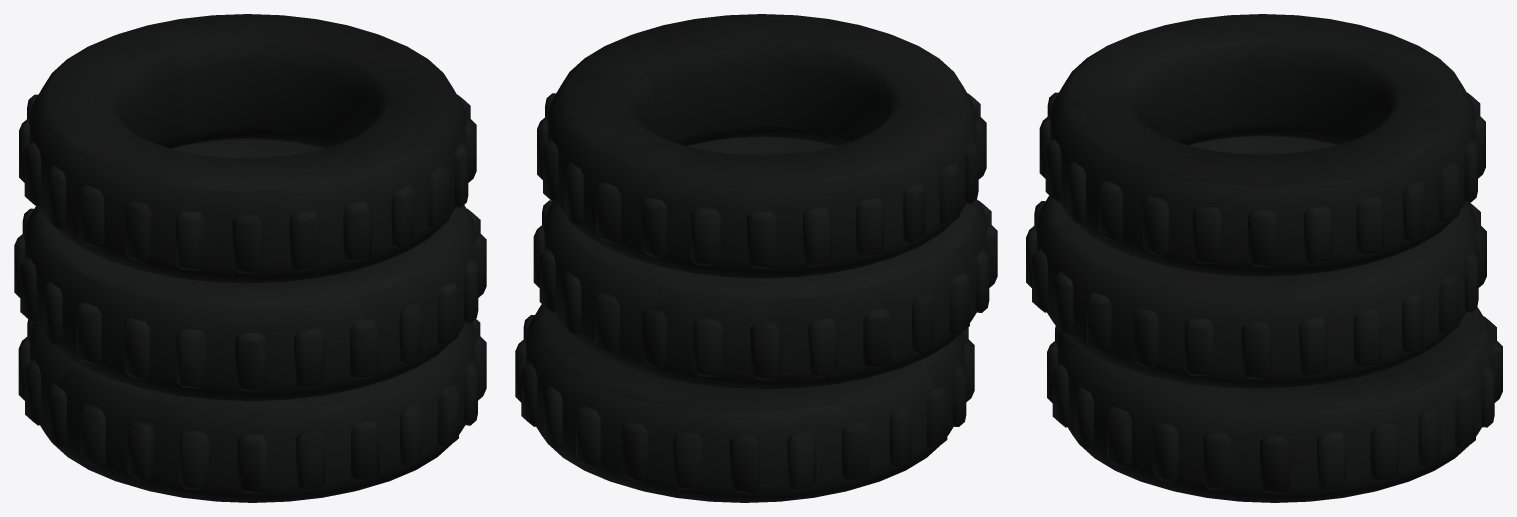
Rendered from tires-41.glb.
3 views of the same model, side by side, from view 1: azimuth 30°, elevation 25°; view 2: azimuth 150°, elevation 25°; view 3: azimuth 270°, elevation 25° (orthographic). The views are drawn at different scales.
Visible parts, largest first — view 1: tires-41; view 2: tires-41; view 3: tires-41.
Boxes of the visible parts, bbox=[...] form: tires-41: bbox=[14, 14, 486, 502]; tires-41: bbox=[515, 14, 997, 502]; tires-41: bbox=[1026, 14, 1502, 502].
Size of the model in its own units: 0.5657 by 0.42 by 0.5721.
1 material, 1 textured.
